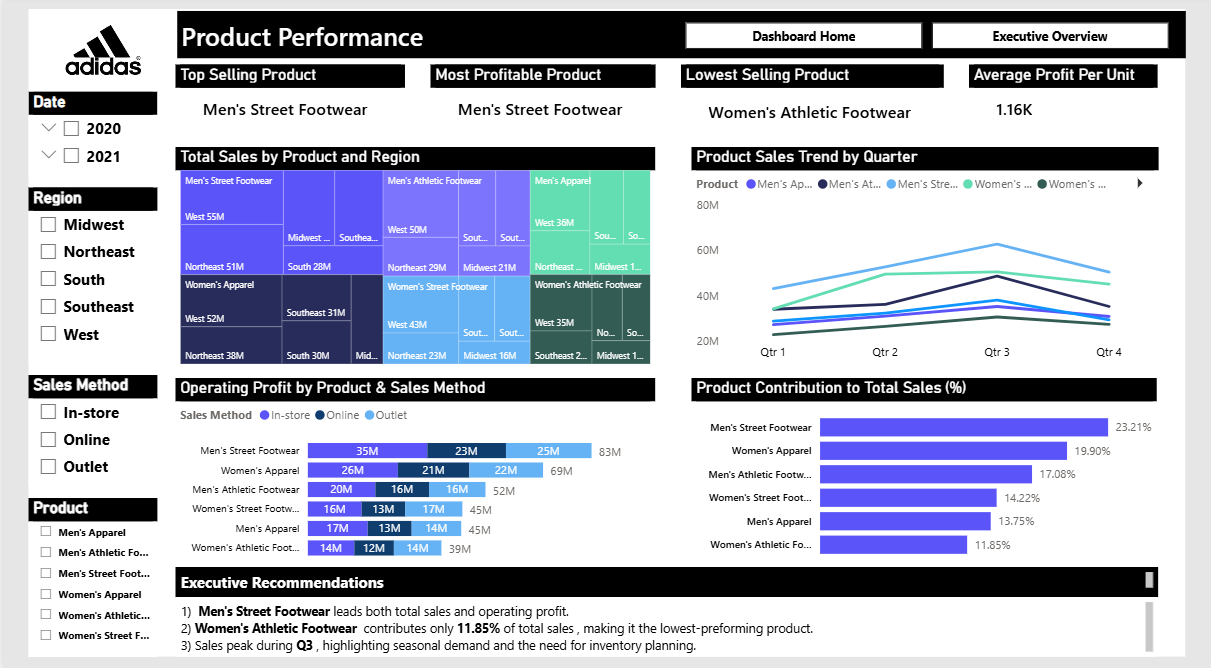

The page's visual inventory and layout, read from the dashboard file:
{"tool":"powerbi","page":{"name":"Product Performance","canvas":[1280,720],"ordinal":2},"visuals":[{"type":"shape","box":[26.7,16.7,1226.7,686.7],"z":0},{"type":"image","box":[28.3,16.7,155,86.7],"z":1000},{"type":"treemap","title":" Total Sales by Product and Region","fields":{"Details":["Data Sales Adidas.Region"],"Group":["Data Sales Adidas.Product"],"Values":["Sum(Data Sales Adidas.Total Sales)"]},"box":[183.3,161.7,508.3,235],"z":2000},{"type":"lineChart","title":"Product Sales Trend by Quarter","fields":{"Category":["Data Sales Adidas.Invoice Date.Variation.Date Hierarchy.Quarter"],"Series":["Data Sales Adidas.Product"],"Y":["Sum(Data Sales Adidas.Total Sales)"]},"box":[730,161.7,495,235],"z":3000},{"type":"barChart","title":" Operating Profit by Product & Sales Method","fields":{"Category":["Data Sales Adidas.Product"],"Series":["Data Sales Adidas.Sales Method"],"Y":["Sum(Data Sales Adidas.Operating Profit)"]},"box":[183.3,406.7,508.3,201.7],"z":4000},{"type":"barChart","title":"Product Contribution to Total Sales (%)","fields":{"Category":["Data Sales Adidas.Product"],"Y":["Data Sales Adidas.Product contribution %"]},"box":[730,406.7,493.3,201.7],"z":5000},{"type":"slicer","title":"Date","fields":{"Values":["Data Sales Adidas.Invoice Date.Variation.Date Hierarchy.Year","Data Sales Adidas.Invoice Date.Variation.Date Hierarchy.Quarter","Data Sales Adidas.Invoice Date.Variation.Date Hierarchy.Month"]},"box":[27.1,103.3,136.7,86.7],"z":6000},{"type":"slicer","title":"Region","fields":{"Values":["Data Sales Adidas.Region"]},"box":[27.1,204.4,136.7,185],"z":7000},{"type":"slicer","title":"Sales Method","fields":{"Values":["Data Sales Adidas.Sales Method"]},"box":[27.1,403.9,136.7,116.7],"z":8000},{"type":"slicer","title":"Product","fields":{"Values":["Data Sales Adidas.Product"]},"box":[27.1,535,136.7,168.3],"z":9000},{"type":"cardVisual","title":"Top Selling Product","fields":{"Data":["Data Sales Adidas.Top selling product"]},"box":[183.3,75,243.3,71.7],"z":10000},{"type":"cardVisual","title":"Average Profit Per Unit","fields":{"Data":["Data Sales Adidas.avg profit per unit"]},"box":[1025,75,200,71.7],"z":11000},{"type":"cardVisual","title":"Most Profitable Product","fields":{"Data":["Min(Data Sales Adidas.Product)"]},"box":[453.9,75,238.3,71.7],"z":12000},{"type":"cardVisual","title":"Lowest Selling Product","fields":{"Data":["Min(Data Sales Adidas.Product)"]},"box":[719,74.8,278.4,77.9],"z":13000},{"type":"textbox","box":[183.3,608.3,1041.7,31.7],"z":14000},{"type":"textbox","box":[183.3,640,1041.7,63.3],"z":15000},{"type":"cardVisual","fields":{"Data":["Data Sales Adidas.Dynamic Tital2"]},"box":[166.7,0,1105,86.7],"z":16000},{"type":"pageNavigator","box":[724,30,512,28],"z":17000}]}

Visuals, with their boxes in screenshot pixels (x1, y1, x2, y2), scaled from the page's 1280x720 canvas onto the 1211x668 screenshot:
shape: box(25, 15, 1186, 653)
image: box(27, 15, 173, 96)
" Total Sales by Product and Region" treemap: box(173, 150, 654, 368)
"Product Sales Trend by Quarter" lineChart: box(691, 150, 1159, 368)
" Operating Profit by Product & Sales Method" barChart: box(173, 377, 654, 564)
"Product Contribution to Total Sales (%)" barChart: box(691, 377, 1157, 564)
"Date" slicer: box(26, 96, 155, 176)
"Region" slicer: box(26, 190, 155, 361)
"Sales Method" slicer: box(26, 375, 155, 483)
"Product" slicer: box(26, 496, 155, 653)
"Top Selling Product" cardVisual: box(173, 70, 404, 136)
"Average Profit Per Unit" cardVisual: box(970, 70, 1159, 136)
"Most Profitable Product" cardVisual: box(429, 70, 655, 136)
"Lowest Selling Product" cardVisual: box(680, 69, 944, 142)
textbox: box(173, 564, 1159, 594)
textbox: box(173, 594, 1159, 653)
cardVisual - Data Sales Adidas.Dynamic Tital2: box(158, 0, 1203, 80)
pageNavigator: box(685, 28, 1169, 54)
